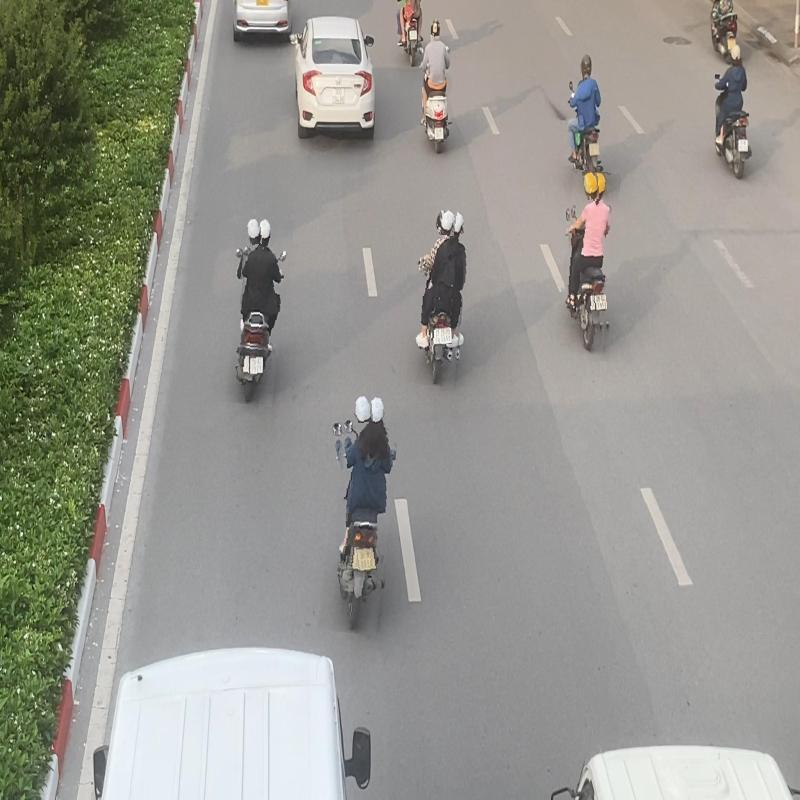helmet: (354, 394, 373, 423), (440, 209, 457, 237), (582, 171, 598, 200), (247, 216, 262, 246), (436, 209, 447, 229)
licenseplate: (358, 546, 376, 572), (438, 326, 453, 344), (249, 356, 263, 375), (594, 293, 607, 311)
motorcyclist: (324, 392, 397, 636), (231, 215, 288, 406), (559, 170, 617, 354), (412, 208, 470, 386)
